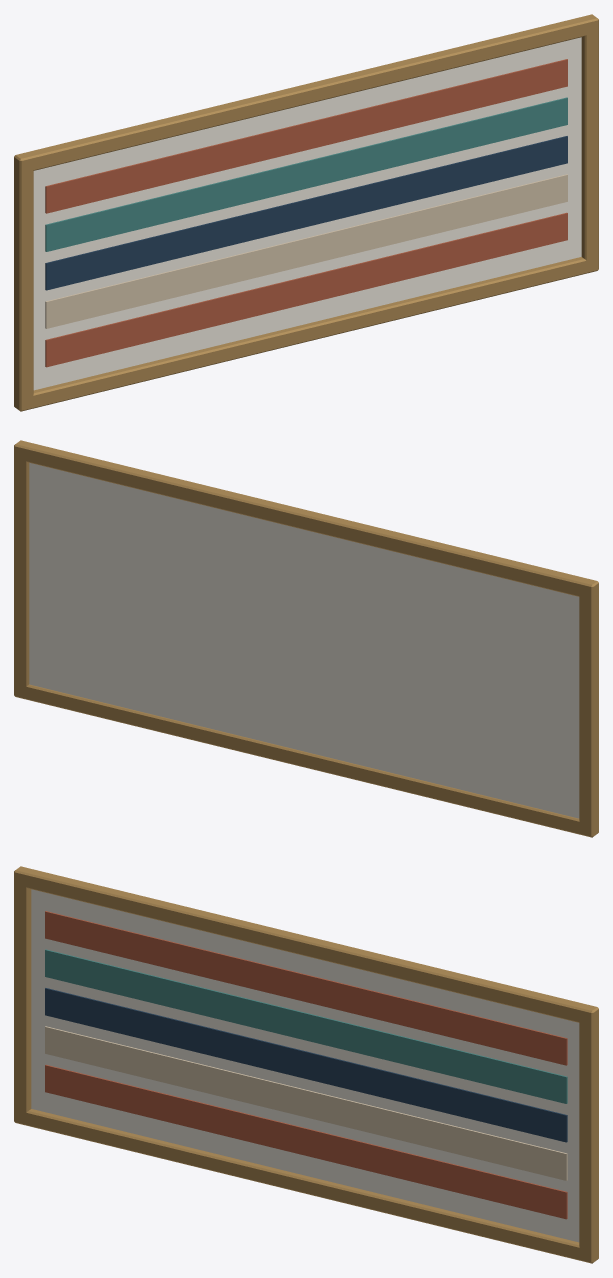
The model's file is i_pic_9.glb.
3 views of the same model, one above another, from view 1: azimuth 30°, elevation 25°; view 2: azimuth 150°, elevation 25°; view 3: azimuth 330°, elevation 25° (orthographic).
Visible parts, largest first — view 1: o.004, o.005, o.008, o.009, o.006, o.007, o.001, o, o.002, o.003; view 2: o.004, o.001, o, o.002, o.003; view 3: o.004, o.005, o.008, o.009, o.006, o.007, o.001, o, o.003, o.002.
Boxes of the visible parts, <box> form: o.004: <box>33,37,581,390</box>; o.005: <box>45,212,567,367</box>; o.008: <box>45,97,567,251</box>; o.009: <box>45,59,567,213</box>; o.006: <box>45,174,567,328</box>; o.007: <box>45,136,567,290</box>; o.001: <box>14,14,598,172</box>; o: <box>14,257,598,411</box>; o.002: <box>14,158,33,411</box>; o.003: <box>581,18,598,273</box>; o.004: <box>29,463,579,818</box>; o.001: <box>14,440,598,598</box>; o: <box>14,683,598,837</box>; o.002: <box>579,587,598,832</box>; o.003: <box>14,447,29,698</box>; o.004: <box>31,889,579,1242</box>; o.005: <box>45,1064,567,1219</box>; o.008: <box>45,949,567,1103</box>; o.009: <box>45,911,567,1065</box>; o.006: <box>45,1026,567,1180</box>; o.007: <box>45,988,567,1142</box>; o.001: <box>14,866,598,1024</box>; o: <box>14,1109,598,1263</box>; o.003: <box>579,1013,598,1258</box>; o.002: <box>14,873,31,1124</box>.
Size of the model in its own units: 1.2 by 0.5 by 0.025.
